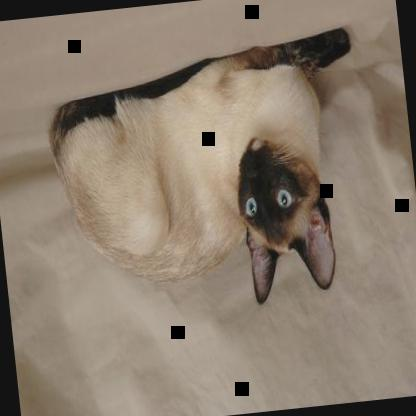cat: (39, 25, 376, 326)
